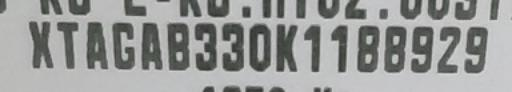letter: (137, 18, 165, 74), (192, 19, 220, 73), (164, 20, 192, 74), (109, 20, 137, 74), (462, 23, 490, 76), (434, 23, 462, 76), (26, 18, 54, 70), (246, 21, 274, 73), (84, 18, 110, 72), (355, 23, 381, 77), (381, 24, 409, 74), (55, 20, 81, 72), (220, 20, 246, 72), (273, 22, 299, 74), (409, 24, 435, 76), (328, 23, 350, 76), (302, 23, 322, 76)
